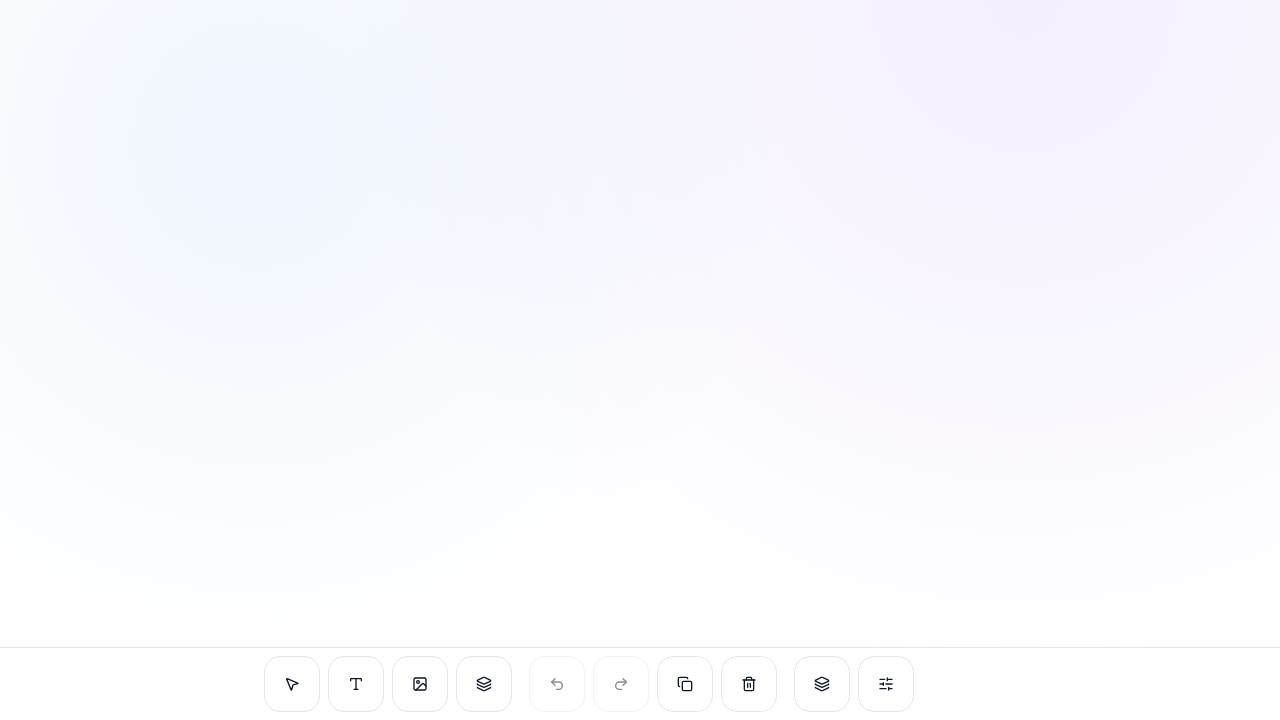
Test: MobileToolbar › opens the layers panel sheet
What coordinates should you click on to do the following:
click the button named "Layers"
I would click on:
 (822, 684)
Its box is [794,656,850,712].
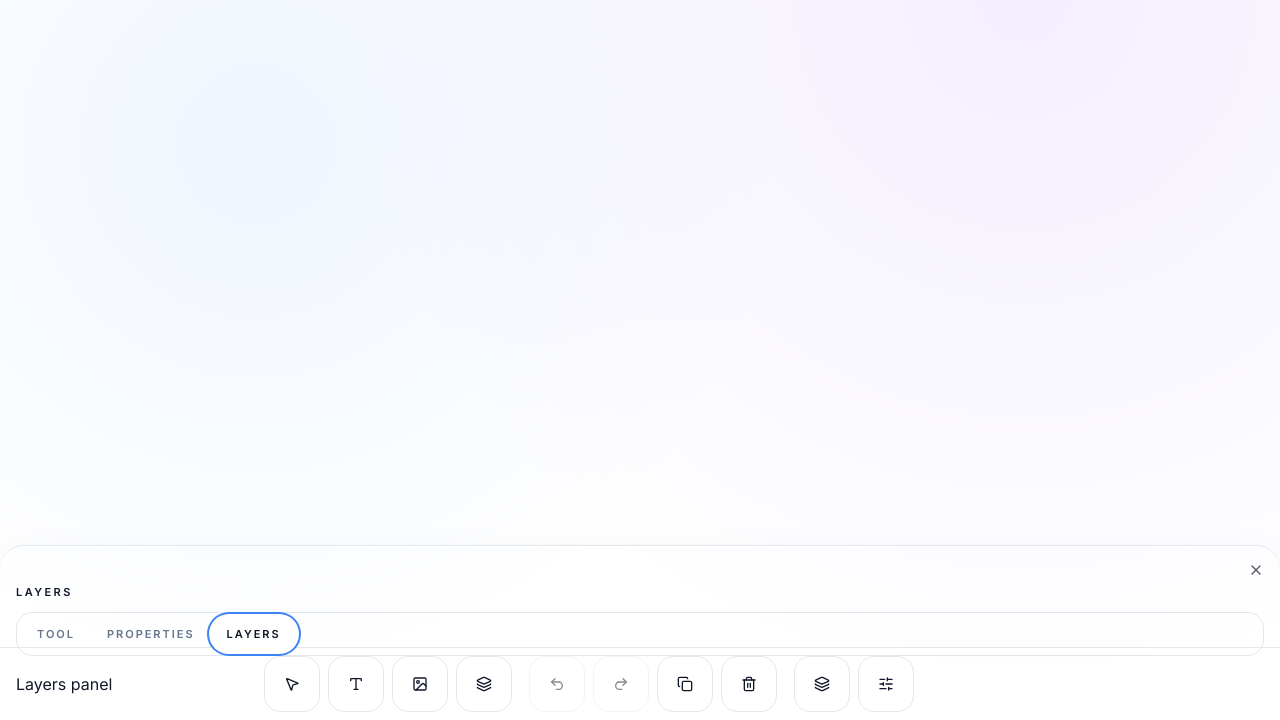
Check: the text "Layers panel" is shown, box [16,674,112,694]
